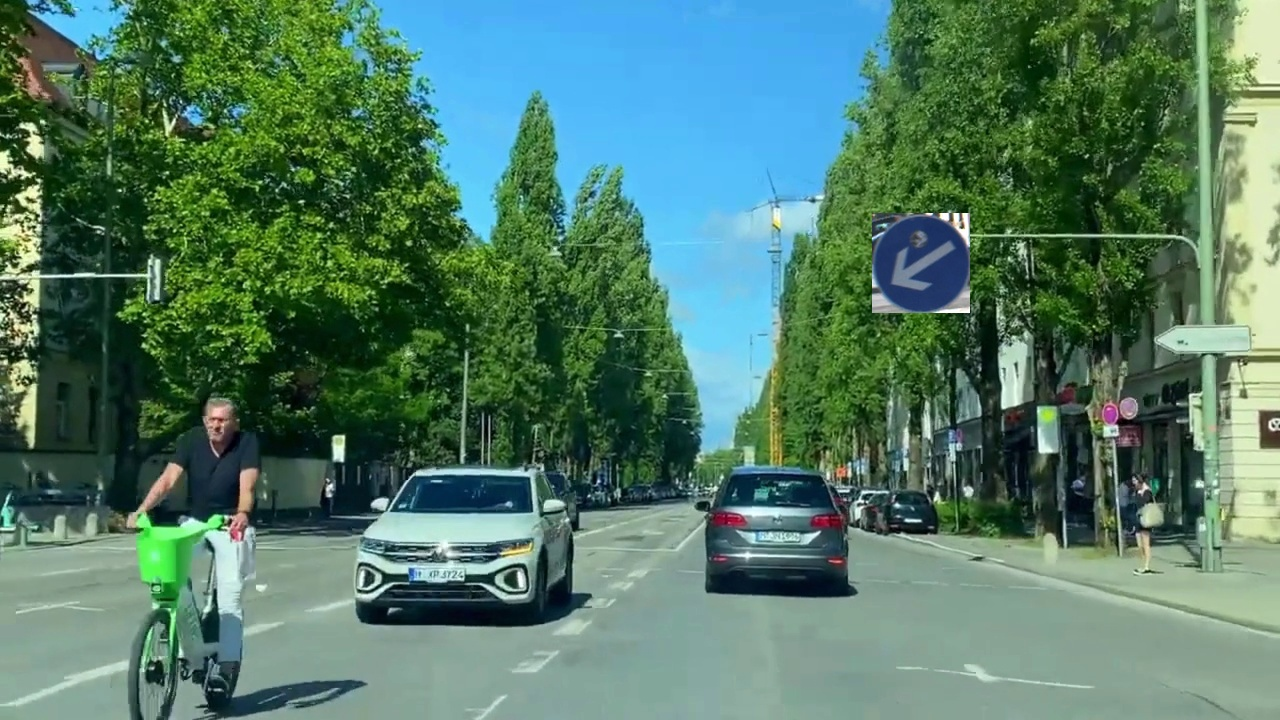Keep left: (872, 213, 970, 313)
